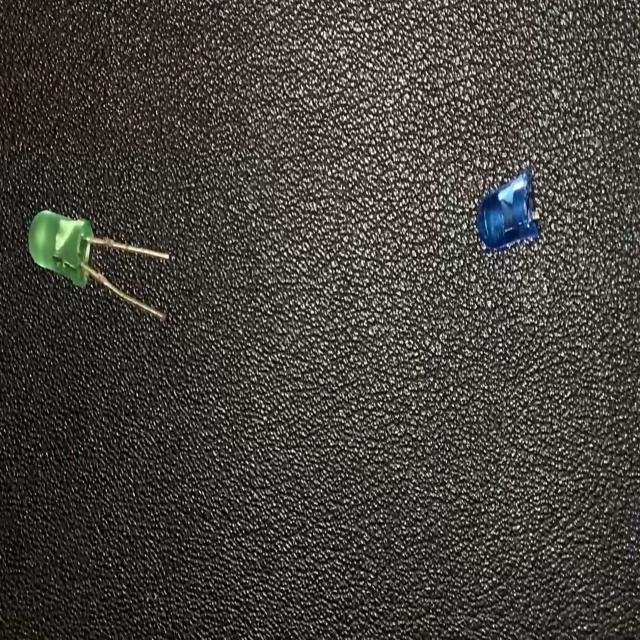LED: (25, 206, 172, 325)
missing-leg: (478, 165, 541, 248)
